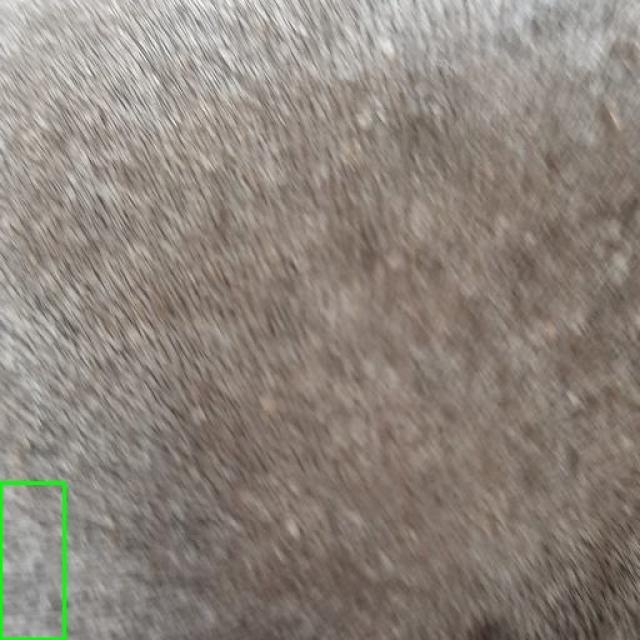Seborrheic Dermatitis: (0, 482, 64, 639)
